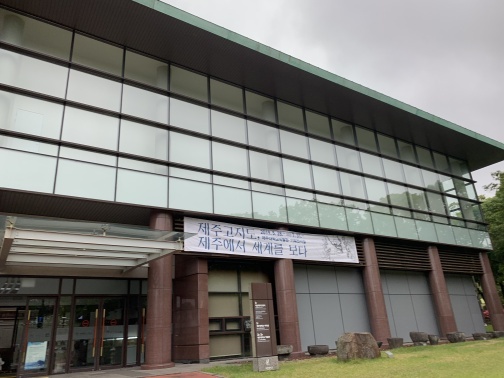Museum: (1, 126, 484, 367)
